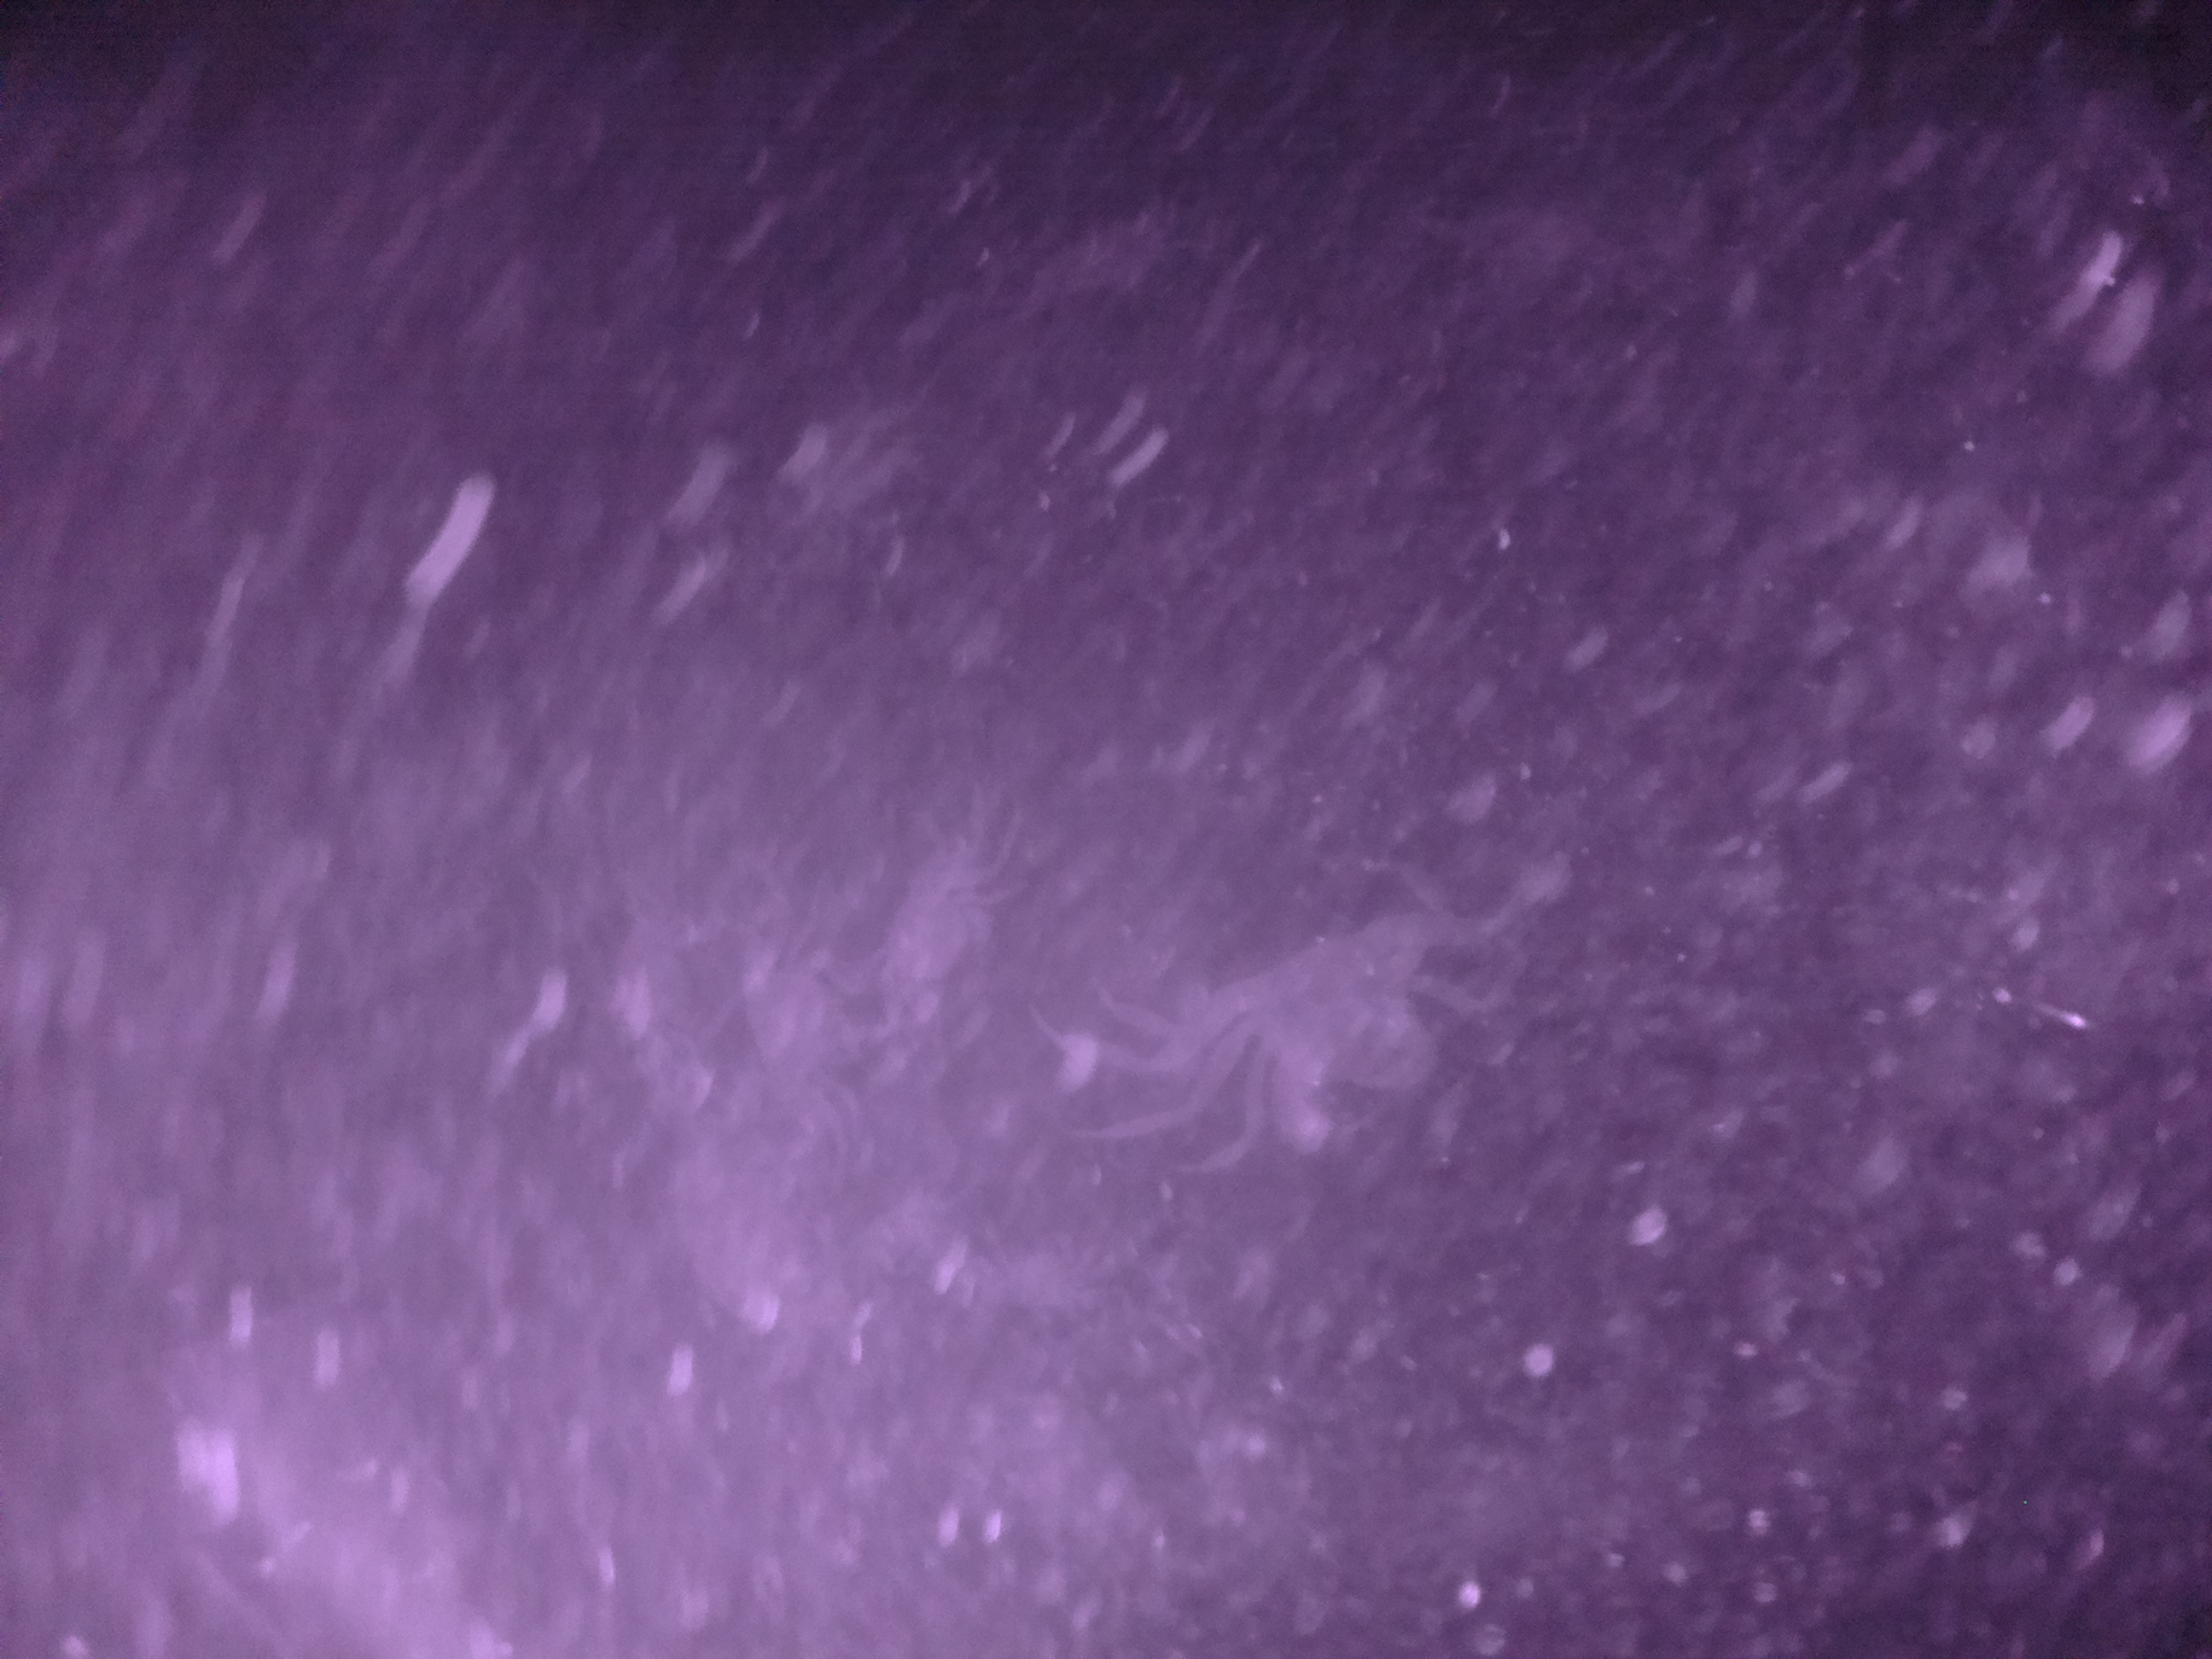Crab: (1143, 871, 1484, 1159), (850, 810, 1029, 1037)
